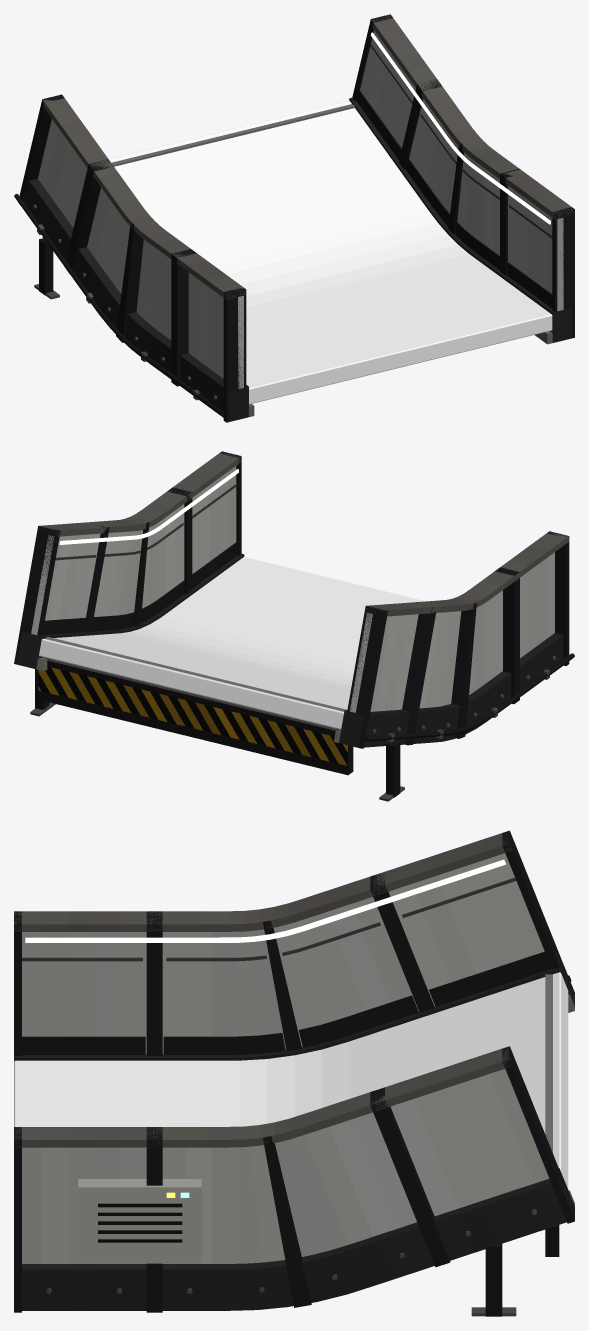
Rendered from conveyor_adv_loader.glb.
3 views of the same model, one above another, from view 1: azimuth 30°, elevation 25°; view 2: azimuth 150°, elevation 25°; view 3: azimuth 270°, elevation 25° (orthographic). The views are drawn at different scales.
Visible parts, largest first — view 1: Belt, Frame; view 2: Frame, Belt; view 3: Frame, Belt.
Boxes of the visible parts, <box> form: Belt: <box>109,100,552,404</box>; Frame: <box>14,14,574,422</box>; Frame: <box>14,451,574,801</box>; Belt: <box>39,557,425,729</box>; Frame: <box>14,830,574,1316</box>; Belt: <box>14,972,568,1189</box>.
Bounding box in the file's own units: 2 × 0.998 × 2.
